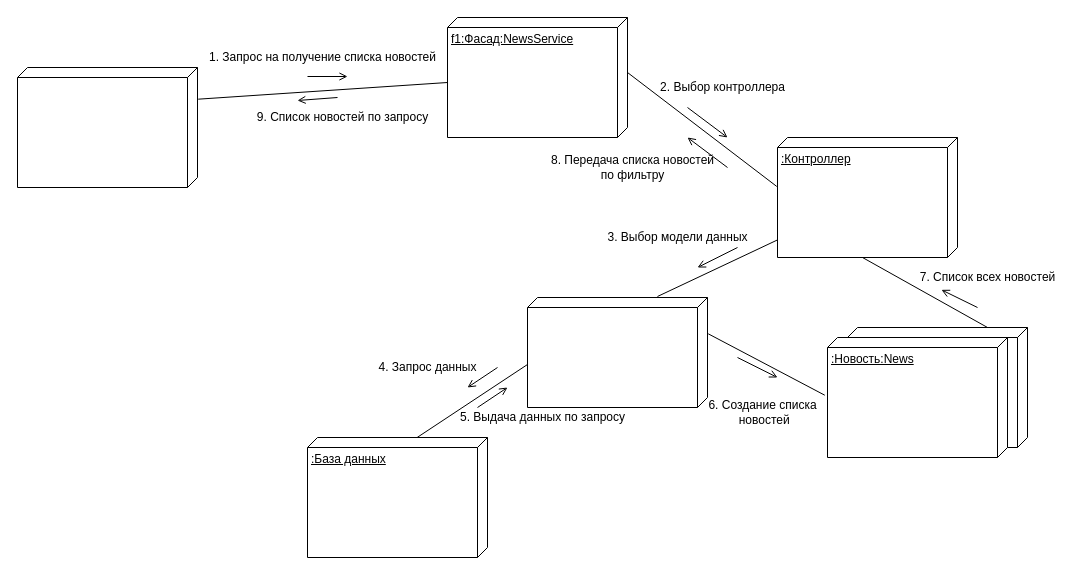
Some shapes in this 1080 by 575 pixel diagram are drawn without their labels. Each missing label, with the centre of its shape:
:FormatModel: pixel 617 352
r1:Читатель:Reader: pixel 107 127
